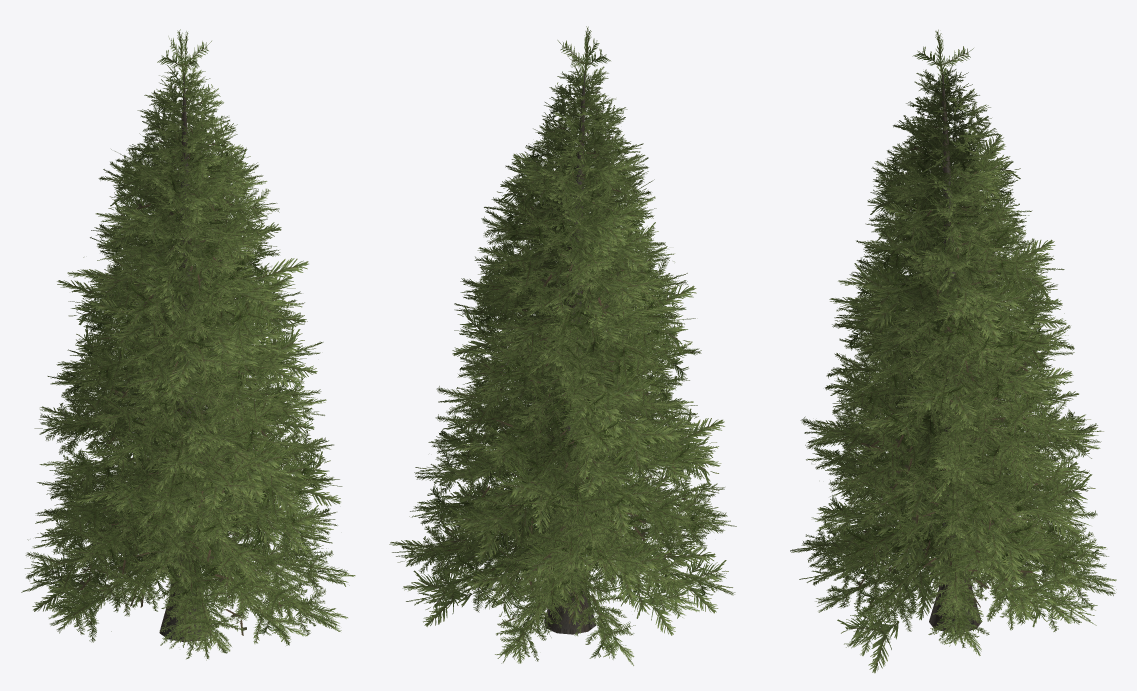
File: Fir_1.gltf
The picture shows the model from 3 angles, left to right: view 1: azimuth 30°, elevation 25°; view 2: azimuth 150°, elevation 25°; view 3: azimuth 270°, elevation 25°; orthographic projection. The views are drawn at different scales.
Visible parts, largest first — view 1: Fir_1; view 2: Fir_1; view 3: Fir_1.
Boxes of the visible parts, x1,y1,x2,y2 form: Fir_1: (21,29,355,660); Fir_1: (389,26,736,665); Fir_1: (790,29,1116,673).
Size of the model in its own units: 8.82 by 16.32 by 8.62.
Materials: 2 (2 with a texture image).
